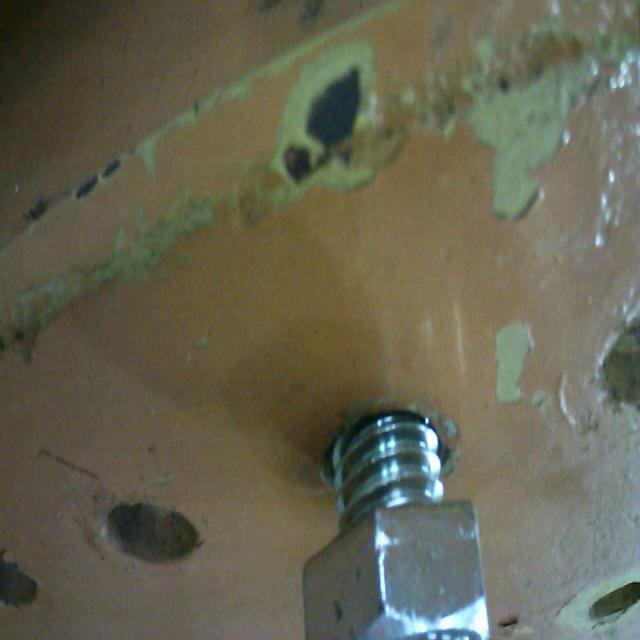Loose bolt: (317, 406, 504, 640)
Missing bolt: (113, 487, 206, 560), (1, 542, 47, 603), (595, 573, 640, 617)
Regular bolt: (318, 404, 521, 640)
